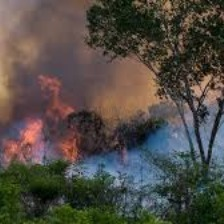incendio: (1, 1, 204, 205)
